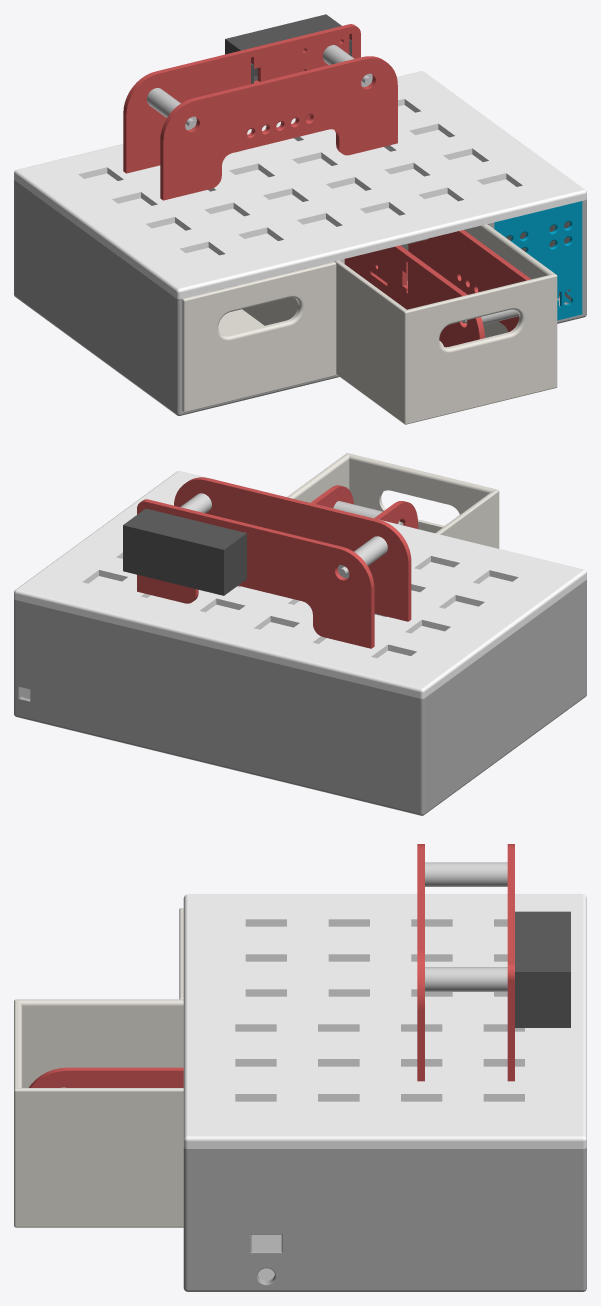
The model's file is cell.gltf.
3 renders of one model, top to bottom at view 1: azimuth 30°, elevation 25°; view 2: azimuth 150°, elevation 25°; view 3: azimuth 270°, elevation 25°, orthographic. The views are drawn at different scales.
Visible parts, largest first — view 1: Body_1 (×14), Body_2; view 2: Body_1 (×11), Body_2; view 3: Body_1 (×10).
Part boxes in pixels (x1,y1,x2,y2): Body_1 (×14): (14, 14, 586, 424); Body_2: (15, 181, 182, 412); Body_1 (×11): (14, 453, 586, 815); Body_2: (425, 580, 586, 810); Body_1 (×10): (14, 844, 586, 1291).
Size of the model in its own units: 0.3556 by 0.1816 by 0.3519.
